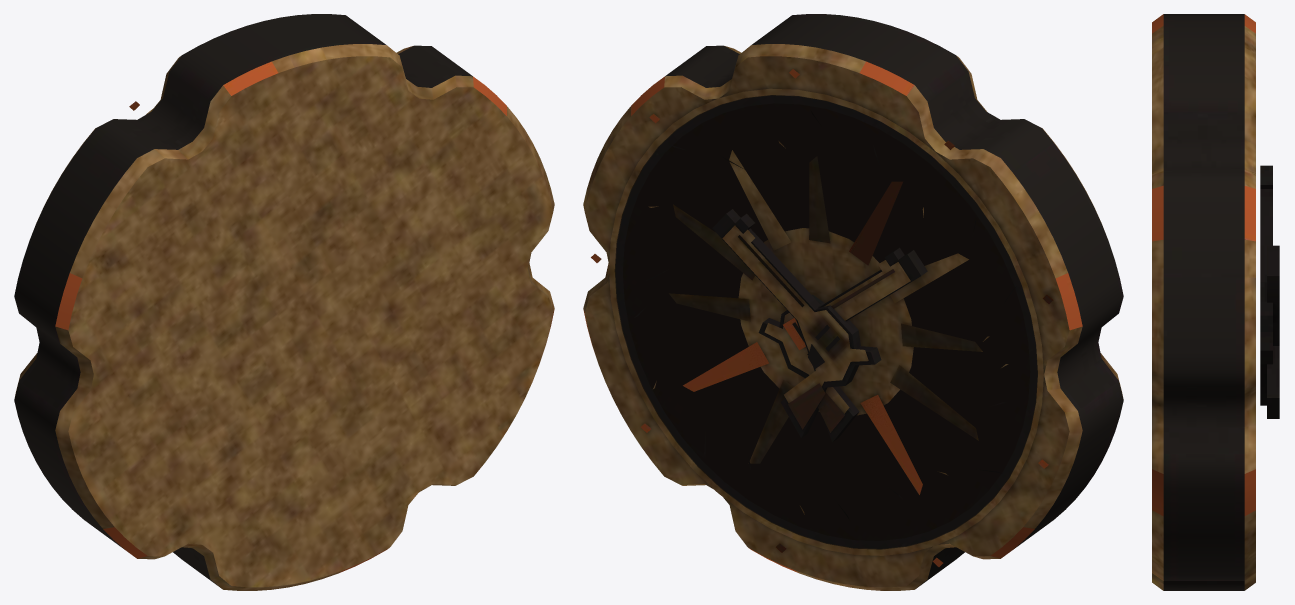
3 renders of one model, left to right at view 1: azimuth 30°, elevation 25°; view 2: azimuth 150°, elevation 25°; view 3: azimuth 270°, elevation 25°, orthographic.
Visible parts, largest first — view 1: Tarnished_bronze, Heavy_charcoal_ink, Warm_rust_patina; view 2: Recessed_dark_brown_grime, Tarnished_bronze, Heavy_charcoal_ink, Warm_rust_patina; view 3: Heavy_charcoal_ink, Tarnished_bronze, Warm_rust_patina.
Part boxes in pixels (x1,y1,x2,y2): Tarnished_bronze: (14, 44, 554, 590); Heavy_charcoal_ink: (14, 14, 472, 588); Warm_rust_patina: (55, 61, 554, 572); Recessed_dark_brown_grime: (623, 103, 1030, 540); Tarnished_bronze: (583, 44, 1123, 590); Heavy_charcoal_ink: (615, 14, 1123, 588); Warm_rust_patina: (583, 61, 1082, 572); Heavy_charcoal_ink: (1163, 14, 1279, 590); Tarnished_bronze: (1152, 26, 1255, 590); Warm_rust_patina: (1152, 14, 1255, 516).
Bounding box in the file's own units: 0.9416 × 0.96 × 0.2132.
Materials: 4 (4 with a texture image).
